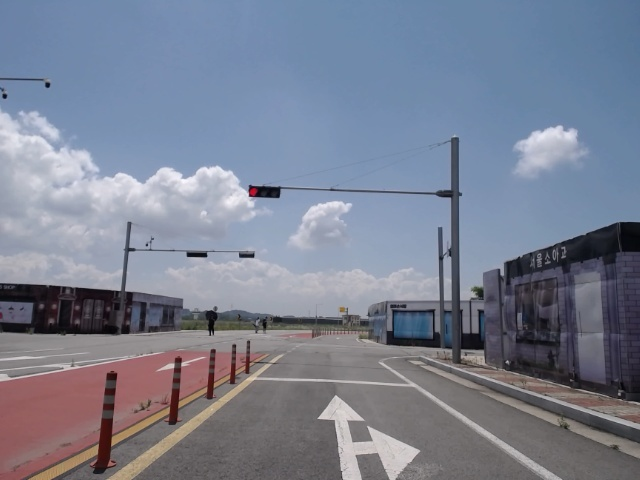red_3: (247, 185, 282, 198)
